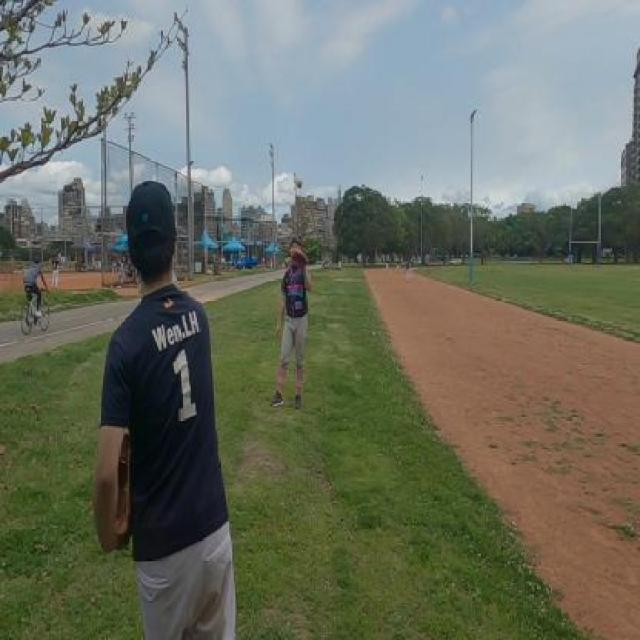baseball: (295, 178, 303, 188)
